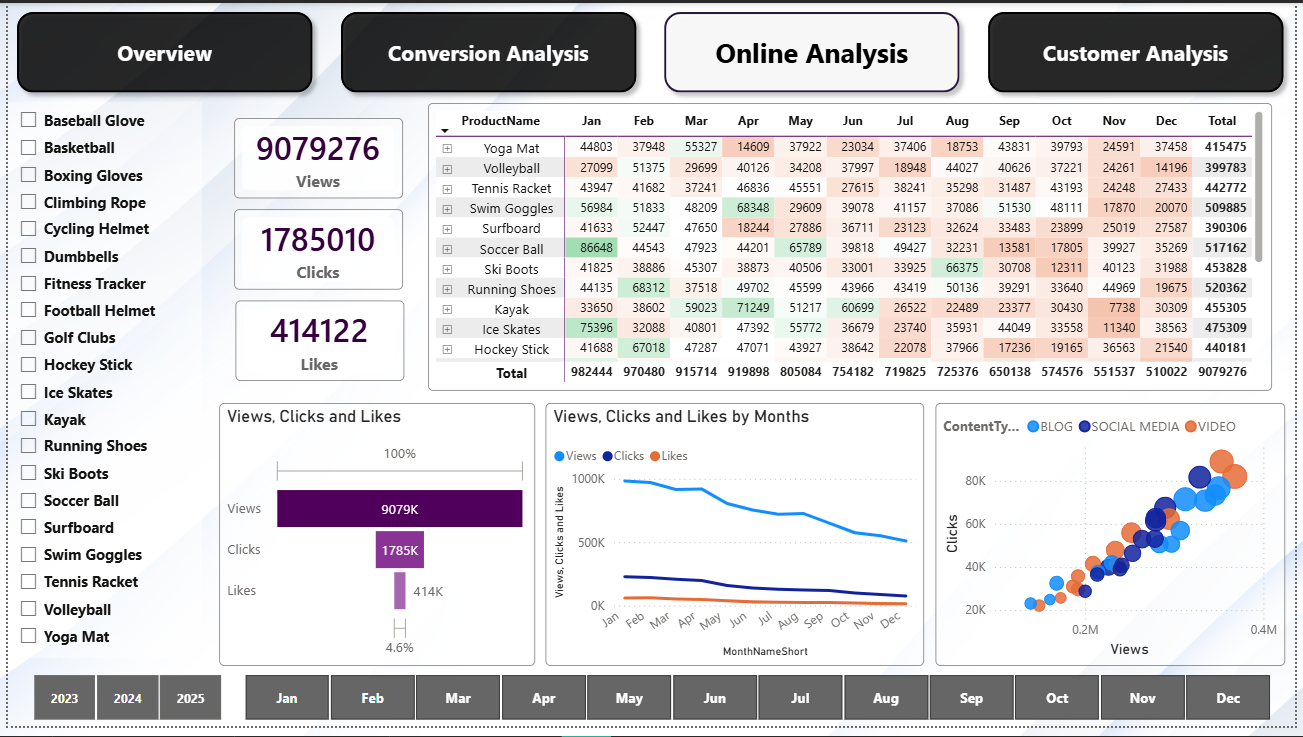

The page's visual inventory and layout, read from the dashboard file:
{"tool":"powerbi","page":{"name":"Online Analysis","canvas":[1280,720],"ordinal":2},"visuals":[{"type":"pageNavigator","box":[0,0,1280,98],"z":0},{"type":"slicer","fields":{"Values":["products.ProductName"]},"box":[0,98.3,192.8,553.6],"z":1000},{"type":"slicer","fields":{"Values":["Calendar.Year"]},"box":[0,661.5,236.4,58.5],"z":2000},{"type":"slicer","fields":{"Values":["Calendar.MonthNameShort"]},"box":[210.2,661.5,1069.8,58.5],"z":3000},{"type":"cardVisual","fields":{"Data":["Calculations.Views"]},"box":[225.2,114.2,167.9,80],"z":4000},{"type":"cardVisual","fields":{"Data":["Calculations.Clicks"]},"box":[225.2,205,167.9,80],"z":5000},{"type":"cardVisual","fields":{"Data":["Calculations.Likes"]},"box":[226.4,295.8,167.9,80],"z":6000},{"type":"funnel","fields":{"Y":["Calculations.Views","Calculations.Clicks","Calculations.Likes"]},"box":[210.2,398.6,314.7,261.2],"z":7000},{"type":"lineChart","title":"Views, Clicks and Likes by Months","fields":{"Y":["Calculations.Views","Calculations.Clicks","Calculations.Likes"],"Category":["Calendar.MonthNameShort"]},"box":[534.9,398.6,376.9,261.2],"z":8000},{"type":"pivotTable","fields":{"Rows":["products.ProductName","engagement_data.ContentType"],"Columns":["Calendar.MonthNameShort"],"Values":["Calculations.Views"]},"box":[418,99,839.7,286.1],"z":9000},{"type":"scatterChart","fields":{"Y":["Calculations.Clicks"],"Category":["Calendar.MonthNameLong"],"X":["Calculations.Views"],"Size":["Sum(engagement_data.Likes)"],"Series":["engagement_data.ContentType"]},"box":[923,398.6,348.3,261.2],"z":10000}]}

Visuals, with their boxes in screenshot pixels (x1, y1, x2, y2), scaled from the page's 1280x720 canvas onto the 1303x737 screenshot:
pageNavigator: locate(0, 0, 1302, 100)
slicer - products.ProductName: locate(0, 101, 196, 667)
slicer - Calendar.Year: locate(0, 677, 241, 736)
slicer - Calendar.MonthNameShort: locate(214, 677, 1302, 736)
cardVisual - Calculations.Views: locate(229, 117, 400, 199)
cardVisual - Calculations.Clicks: locate(229, 210, 400, 292)
cardVisual - Calculations.Likes: locate(230, 303, 401, 385)
funnel - Calculations.Views x Calculations.Clicks: locate(214, 408, 534, 675)
"Views, Clicks and Likes by Months" lineChart: locate(545, 408, 928, 675)
pivotTable - products.ProductName x engagement_data.ContentType: locate(426, 101, 1280, 394)
scatterChart - Calculations.Clicks x Calendar.MonthNameLong: locate(940, 408, 1294, 675)
